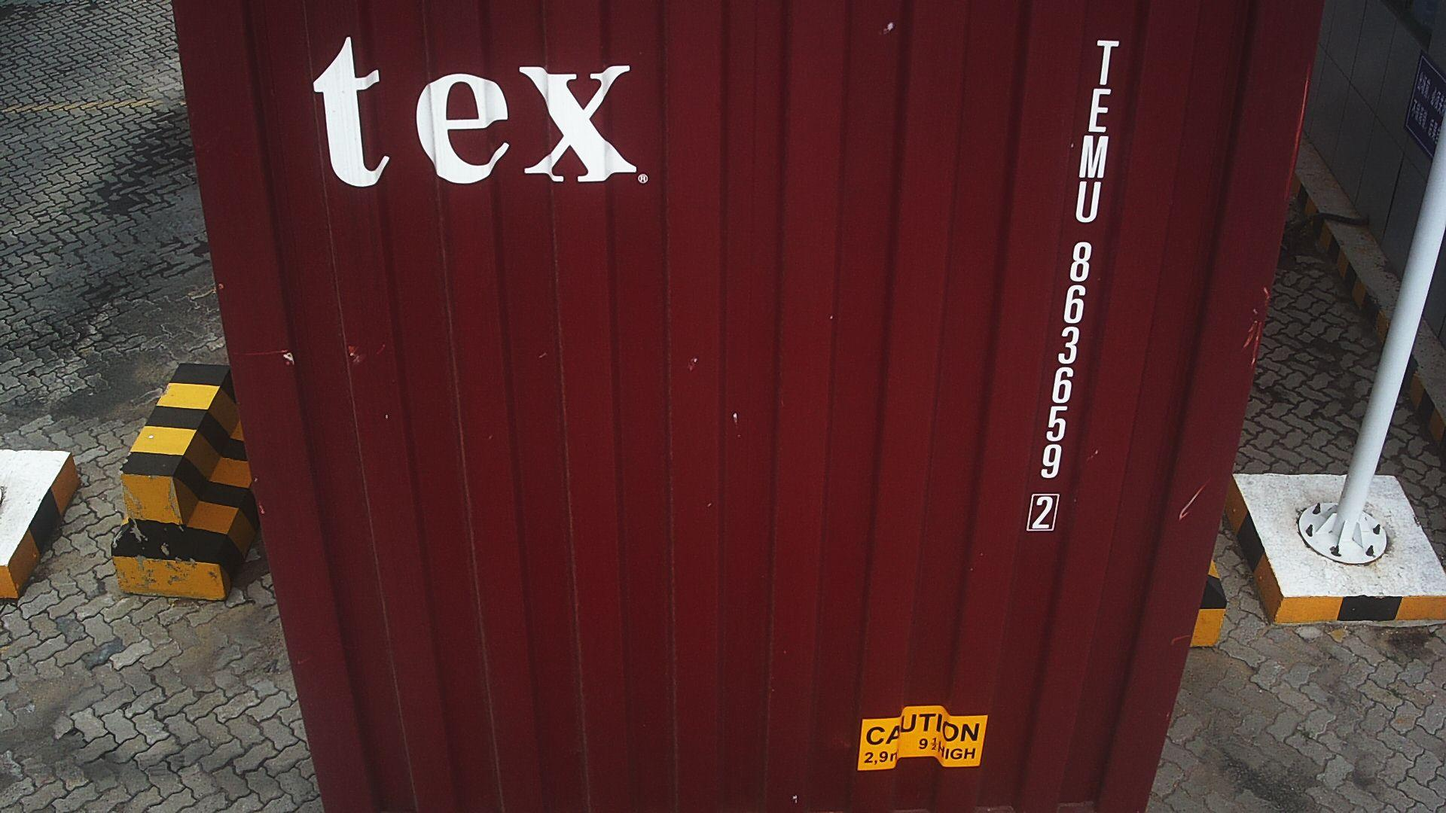container-numbers: (1022, 32, 1121, 537)
